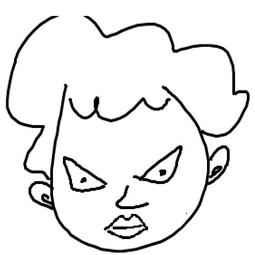cupid_mouth: (104, 212, 148, 243)
ear: (204, 143, 234, 187), (25, 179, 57, 211)
eye: (138, 143, 187, 187), (61, 154, 108, 194)
nose: (111, 184, 153, 211)
